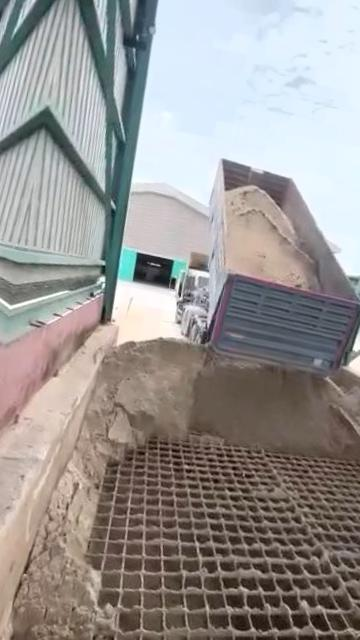sand: (10, 340, 360, 640), (225, 186, 319, 291), (331, 381, 360, 454)
